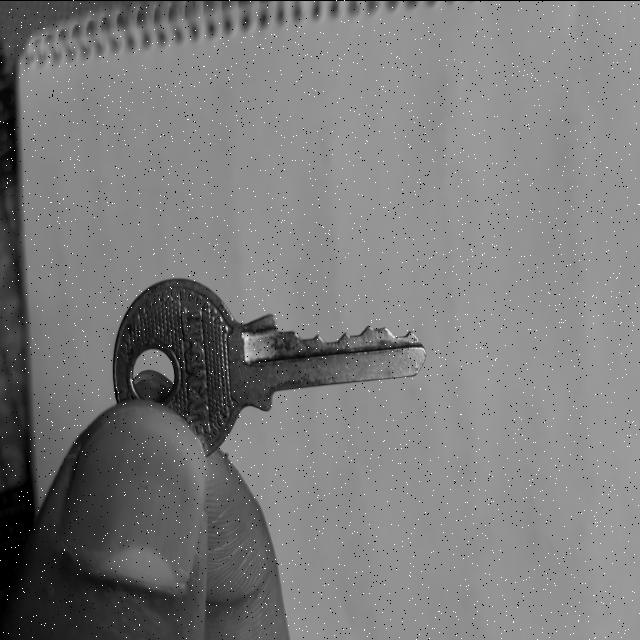key: (113, 278, 426, 453)
